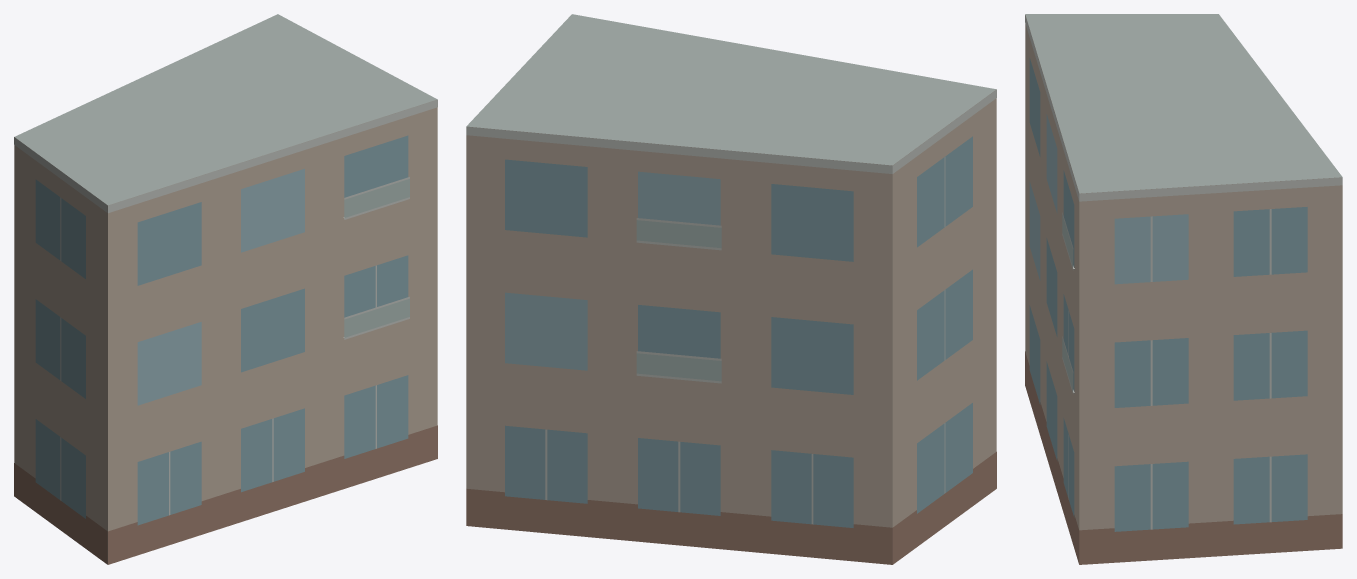
The model's file is survey-upis-32593225.glb.
3 views of the same model, side by side, from view 1: azimuth 30°, elevation 25°; view 2: azimuth 150°, elevation 25°; view 3: azimuth 270°, elevation 25° (orthographic). The views are drawn at different scales.
Parts seen in each view (by area): view 1: survey-upis-32593225.tmp; view 2: survey-upis-32593225.tmp; view 3: survey-upis-32593225.tmp.
Part boxes in pixels (x1,y1,x2,y2): survey-upis-32593225.tmp: (14,14,437,564); survey-upis-32593225.tmp: (466,14,996,564); survey-upis-32593225.tmp: (1025,14,1342,564).
Size of the model in its own units: 11.63 by 11.2 by 8.69.
